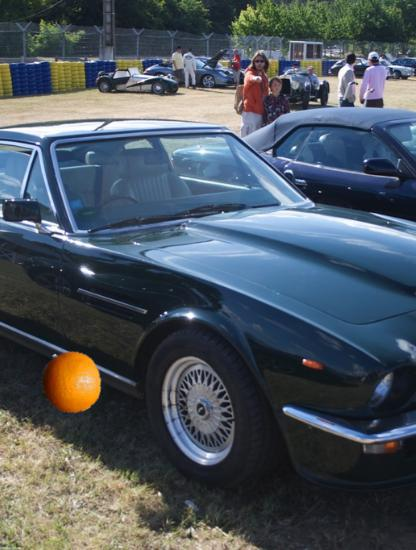Orange: (39, 350, 103, 414)
